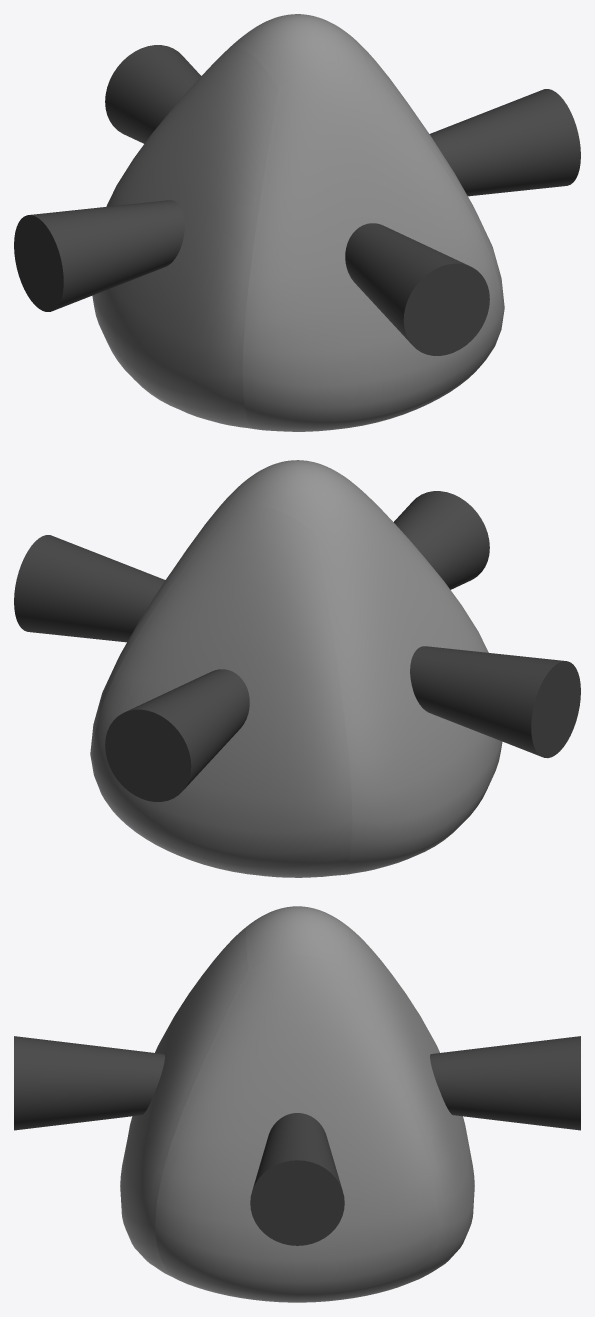
3 renders of one model, top to bottom at view 1: azimuth 30°, elevation 25°; view 2: azimuth 150°, elevation 25°; view 3: azimuth 270°, elevation 25°, orthographic. The views are drawn at different scales.
Parts seen in each view (by area): view 1: Body(Pyramidal)+Colour(6000000_6000000)+Pattern(Solid)+_6b94, Arm002, Arm004, Arm001, Arm003; view 2: Body(Pyramidal)+Colour(6000000_6000000)+Pattern(Solid)+_6b94, Arm002, Arm003, Arm001, Arm004; view 3: Body(Pyramidal)+Colour(6000000_6000000)+Pattern(Solid)+_6b94, Arm004, Arm003, Arm001.
Part boxes in pixels (x1=…): Body(Pyramidal)+Colour(6000000_6000000)+Pattern(Solid)+_6b94: x1=92, y1=14, x2=504, y2=431; Arm002: x1=14, y1=200, x2=184, y2=311; Arm004: x1=345, y1=223, x2=489, y2=355; Arm001: x1=429, y1=89, x2=580, y2=196; Arm003: x1=105, y1=45, x2=200, y2=143; Body(Pyramidal)+Colour(6000000_6000000)+Pattern(Solid)+_6b94: x1=90, y1=460, x2=502, y2=877; Arm002: x1=410, y1=646, x2=580, y2=758; Arm003: x1=105, y1=669, x2=249, y2=801; Arm001: x1=14, y1=535, x2=165, y2=642; Arm004: x1=393, y1=491, x2=489, y2=589; Body(Pyramidal)+Colour(6000000_6000000)+Pattern(Solid)+_6b94: x1=120, y1=906, x2=474, y2=1302; Arm004: x1=14, y1=1036, x2=164, y2=1130; Arm003: x1=430, y1=1036, x2=580, y2=1130; Arm001: x1=250, y1=1113, x2=344, y2=1245.
Bounding box in the file's own units: 1.52 × 1.02 × 1.52.
Materials: 2 (2 with a texture image).
